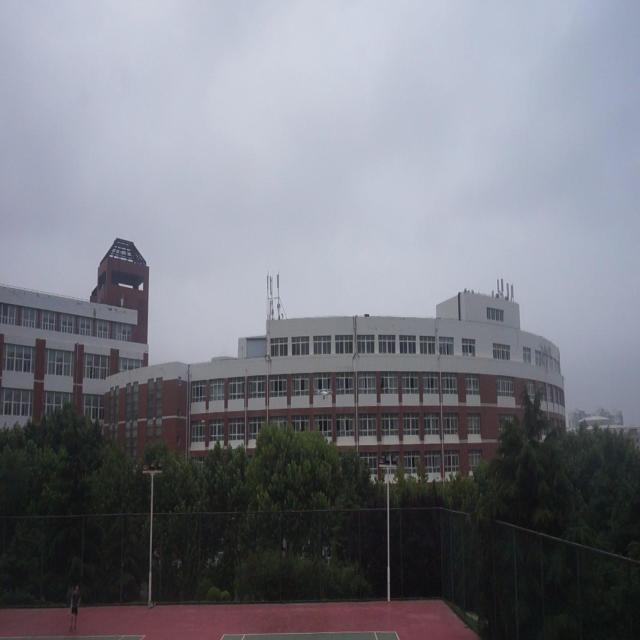drone: (315, 384, 333, 402)
